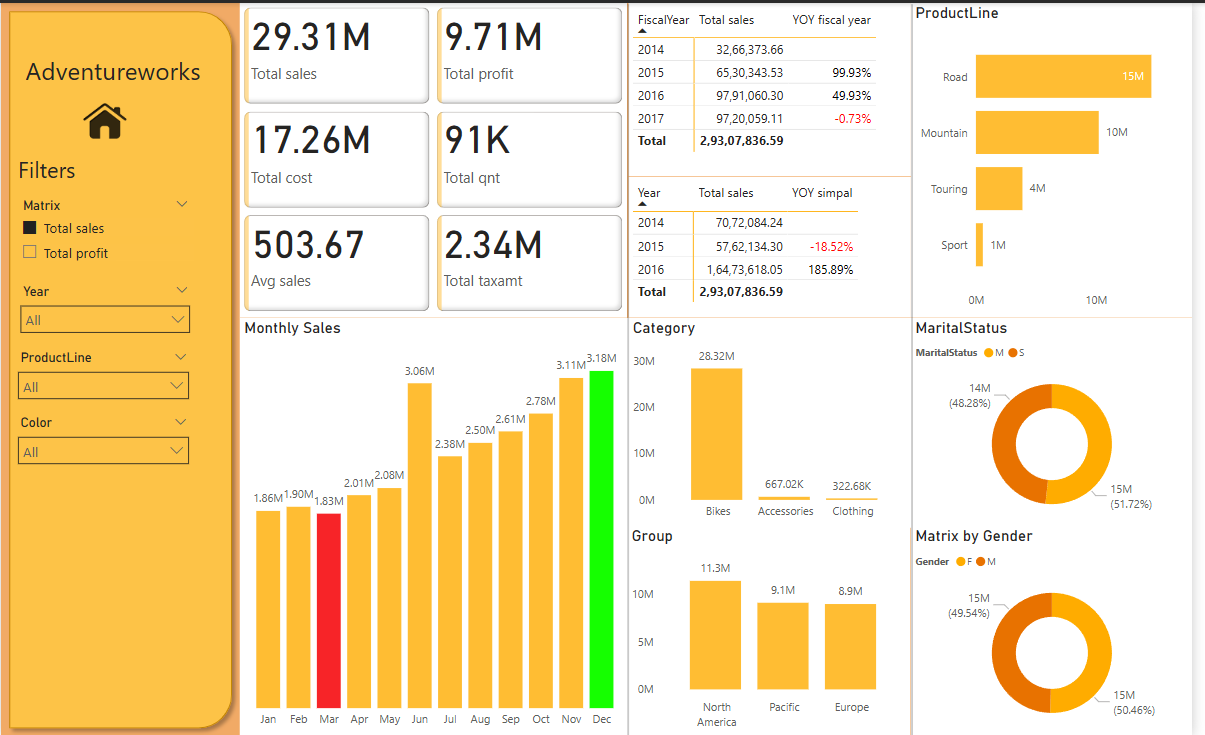

The dashboard page shown, as its layout file describes it:
{"tool":"powerbi","page":{"name":"report","canvas":[1300,800],"ordinal":0},"visuals":[{"type":"shape","box":[0,0,260.8,800.1],"z":0},{"type":"clusteredColumnChart","fields":{"Y":["KPI.swithch"],"Category":["Calendar.Month"]},"box":[260.8,342.9,426.4,455.7],"z":2000},{"type":"columnChart","title":" Category","fields":{"Category":["Product.Category"],"Y":["KPI.swithch"]},"box":[684.3,342.9,309.2,228.6],"z":3000},{"type":"pivotTable","fields":{"Rows":["Calendar.Year"],"Values":["KPI.Total sales","Time intelligance.YOY simpal"]},"box":[684.3,189,307.7,153.9],"z":6000},{"type":"pivotTable","fields":{"Rows":["Calendar.FiscalYear"],"Values":["KPI.Total sales","Time intelligance.YOY fiscal year"]},"box":[684.3,0,307.7,189],"z":7000},{"type":"donutChart","title":" MaritalStatus","fields":{"Category":["Customer.MaritalStatus"],"Y":["KPI.swithch"]},"box":[992,342.9,307.7,228.6],"z":8000},{"type":"donutChart","fields":{"Y":["KPI.swithch"],"Category":["Customer.Gender"]},"box":[992,571.5,307.7,228.6],"z":9000},{"type":"columnChart","title":"Group","fields":{"Category":["Territories.Group"],"Y":["KPI.swithch"]},"box":[682.8,571.5,309.2,228.6],"z":10000},{"type":"clusteredBarChart","title":"ProductLine","fields":{"Y":["KPI.Measure 3"],"Category":["Product.ProductLine"]},"box":[992,0,307.7,342.9],"z":11000},{"type":"cardVisual","fields":{"Data":["KPI.Total sales","KPI.Total profit","KPI.Total cost","KPI.Total qnt","KPI.Avg sales","KPI.Total taxamt"]},"box":[260.8,0,422,342.9],"z":12000},{"type":"textbox","box":[22,49.8,221.3,45.4],"z":13000},{"type":"slicer","fields":{"Values":["Product.Color"]},"box":[8.8,444,206.6,73.3],"z":13250},{"type":"slicer","fields":{"Values":["Product.ProductLine"]},"box":[8.8,373.7,206.6,70.3],"z":13500},{"type":"slicer","fields":{"Values":["Matrix.Matrix"]},"box":[10.3,206.6,205.1,95.2],"z":14000},{"type":"slicer","fields":{"Values":["Calendar.Year"]},"box":[10.3,301.9,205.1,71.8],"z":14500},{"type":"textbox","box":[13.2,161.2,82.1,45.4],"z":14501},{"type":"shape","box":[678.4,1.5,10.3,798.6],"z":14502},{"type":"shape","box":[987.6,1.5,13.2,798.6],"z":14503},{"type":"image","box":[82.1,95.2,63,61.5],"z":14504}]}

Visuals, with their boxes in screenshot pixels (x1, y1, x2, y2), scaled from the page's 1300x800 canvas onto the 1205x735 screenshot:
shape: [x1=0, y1=0, x2=242, y2=734]
clusteredColumnChart - KPI.swithch x Calendar.Month: [x1=242, y1=315, x2=637, y2=734]
" Category" columnChart: [x1=634, y1=315, x2=921, y2=525]
pivotTable - Calendar.Year x KPI.Total sales: [x1=634, y1=174, x2=920, y2=315]
pivotTable - Calendar.FiscalYear x KPI.Total sales: [x1=634, y1=0, x2=920, y2=174]
" MaritalStatus" donutChart: [x1=920, y1=315, x2=1204, y2=525]
donutChart - KPI.swithch x Customer.Gender: [x1=920, y1=525, x2=1204, y2=734]
"Group" columnChart: [x1=633, y1=525, x2=920, y2=734]
"ProductLine" clusteredBarChart: [x1=920, y1=0, x2=1204, y2=315]
cardVisual - KPI.Total sales x KPI.Total profit: [x1=242, y1=0, x2=633, y2=315]
textbox: [x1=20, y1=46, x2=226, y2=87]
slicer - Product.Color: [x1=8, y1=408, x2=200, y2=475]
slicer - Product.ProductLine: [x1=8, y1=343, x2=200, y2=408]
slicer - Matrix.Matrix: [x1=10, y1=190, x2=200, y2=277]
slicer - Calendar.Year: [x1=10, y1=277, x2=200, y2=343]
textbox: [x1=12, y1=148, x2=88, y2=190]
shape: [x1=629, y1=1, x2=638, y2=734]
shape: [x1=915, y1=1, x2=928, y2=734]
image: [x1=76, y1=87, x2=134, y2=144]
